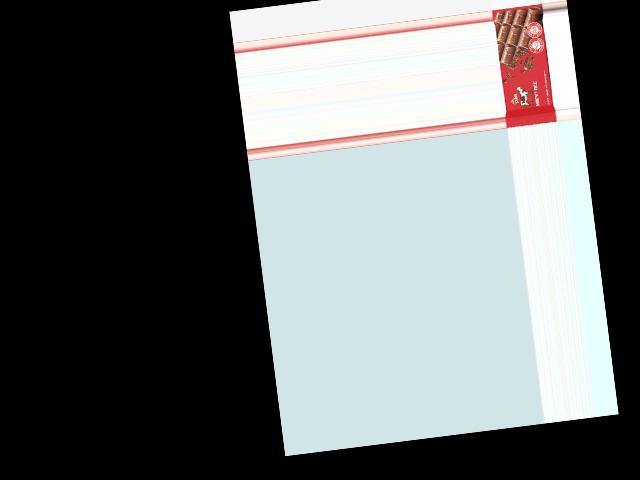chocolate: (492, 3, 557, 126)
